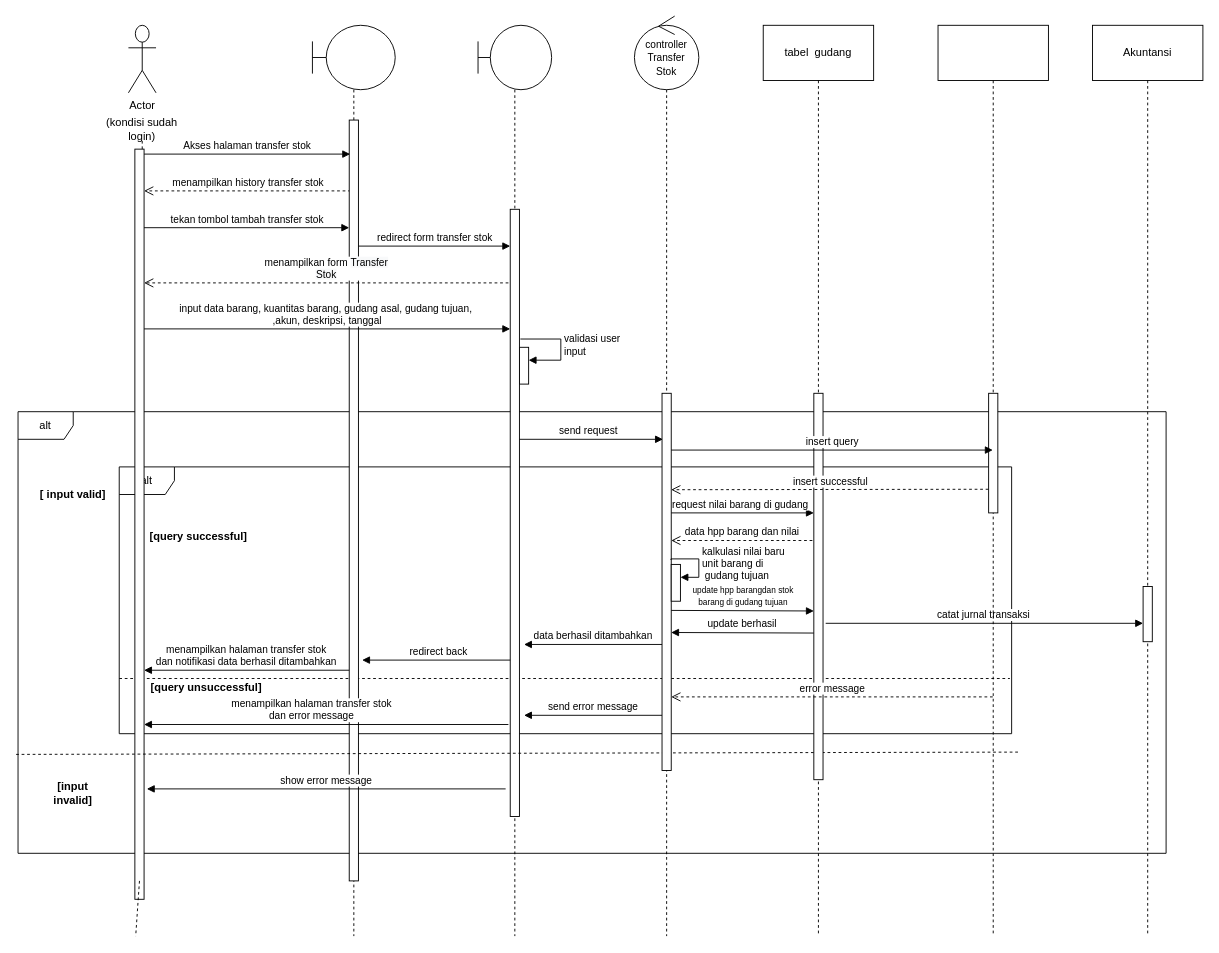
The diagram is 1219 pixels wide and 953 high, and some of its shapes have lost their labels. Here are the shapes that lost their labels. From the top down, the box of each, then its label:
(312, 24, 395, 936): Halaman Transfer Stok
(477, 24, 552, 936): Halaman tambah Transfer Stok
(937, 24, 1048, 936): tabel transaksi Transfer Stok
